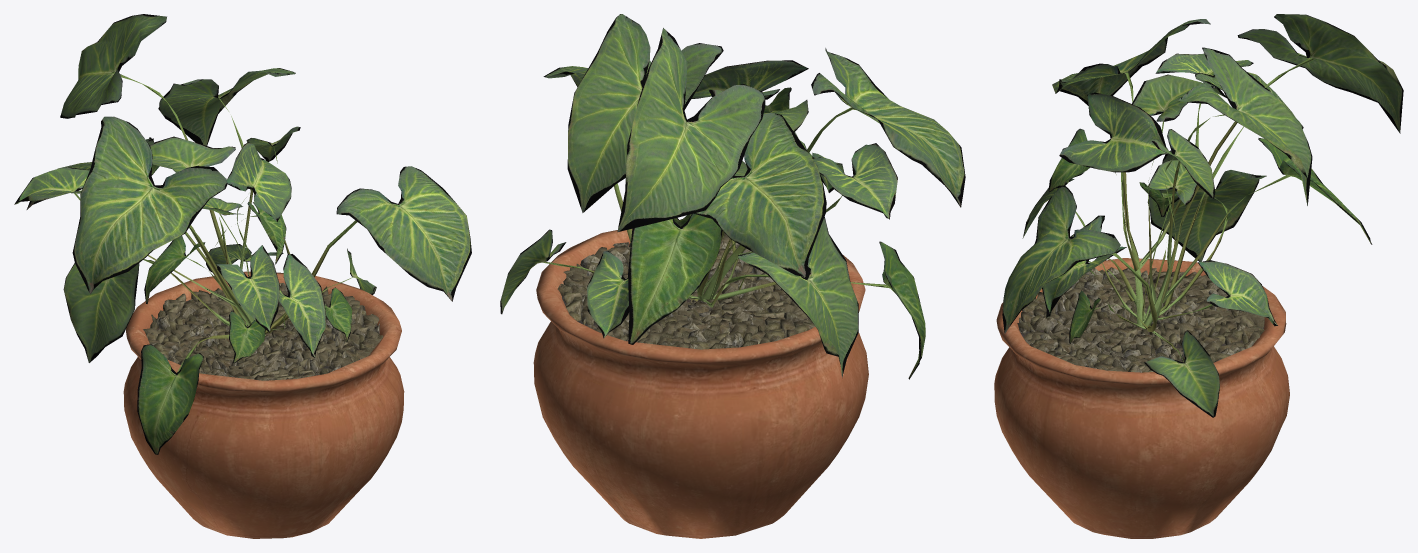
File: potted_plant_02.glb
3 renders of one model, left to right at view 1: azimuth 30°, elevation 25°; view 2: azimuth 150°, elevation 25°; view 3: azimuth 270°, elevation 25°, orthographic. The views are drawn at different scales.
Visible parts, largest first — view 1: potted_plant_02_leaves, potted_plant_02_pot; view 2: potted_plant_02_leaves, potted_plant_02_pot; view 3: potted_plant_02_pot, potted_plant_02_leaves.
Part boxes in pixels (x1,y1,x2,y2): potted_plant_02_leaves: [14, 14, 471, 454]; potted_plant_02_pot: [123, 271, 404, 538]; potted_plant_02_leaves: [500, 14, 965, 379]; potted_plant_02_pot: [533, 229, 868, 538]; potted_plant_02_pot: [994, 258, 1289, 538]; potted_plant_02_leaves: [1002, 14, 1403, 417].
Bounding box in the file's own units: 0.7012 × 0.8401 × 0.6545.
Materials: 2 (2 with a texture image).
